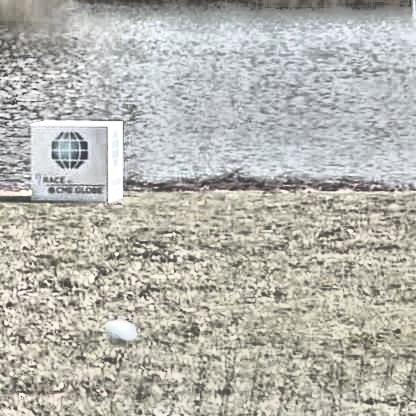golfball: (98, 314, 137, 344)
